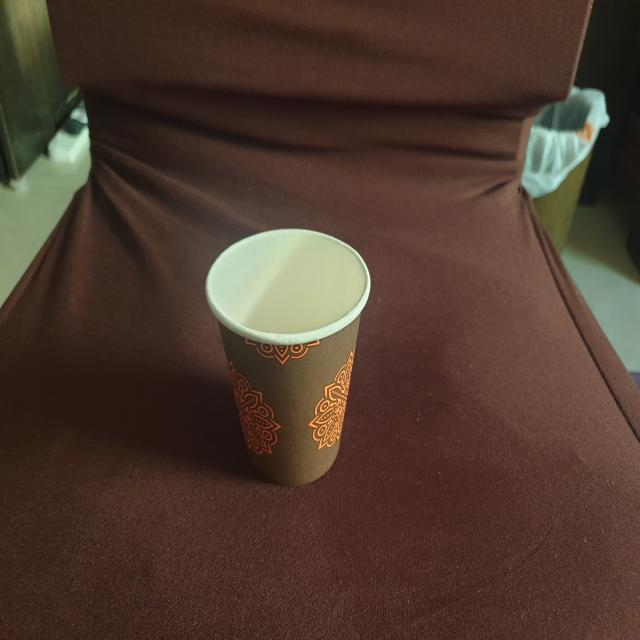cups: (205, 222, 376, 488)
